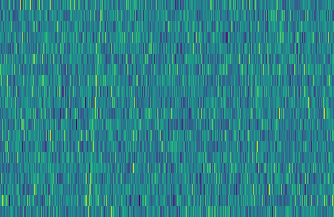signal: (81, 0, 104, 217)
